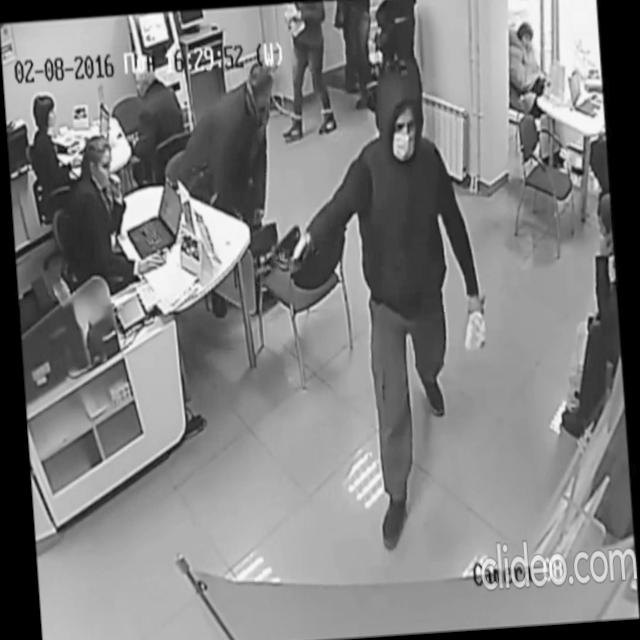gun: (266, 222, 304, 271)
person: (168, 58, 286, 272), (60, 127, 170, 298), (503, 17, 566, 170), (271, 0, 338, 142), (27, 89, 86, 208)
person with a gun: (255, 54, 500, 558)
